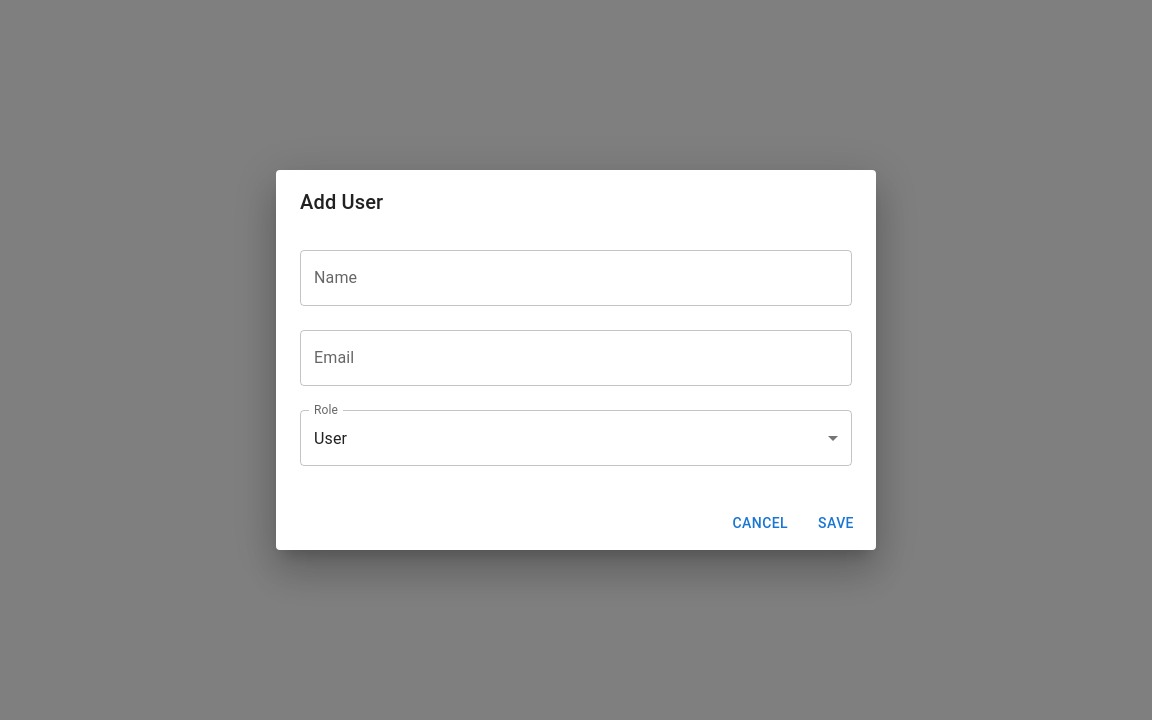
Test: AddEditUserModal › should show error for invalid email format
Type "invalid-email" into the field labelled "Email" at {"x": 576, "y": 358}, box [300,330,852,386]
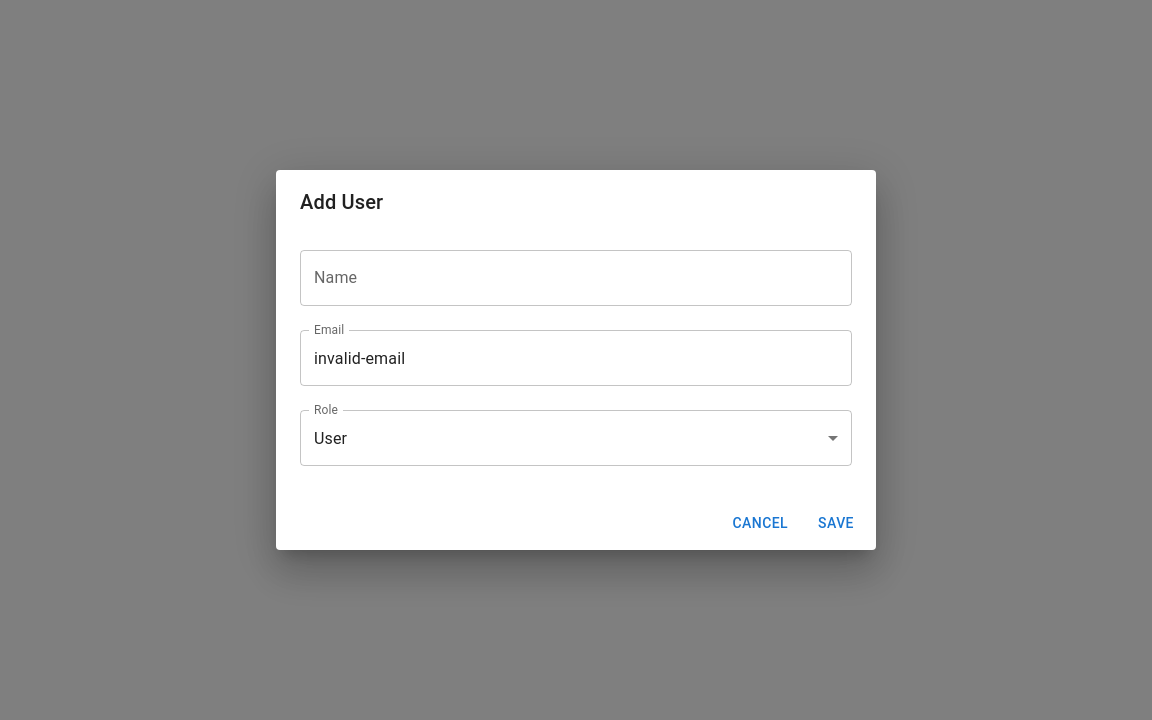
Click the button "Save" at {"x": 836, "y": 524}, box [804,505,868,542]
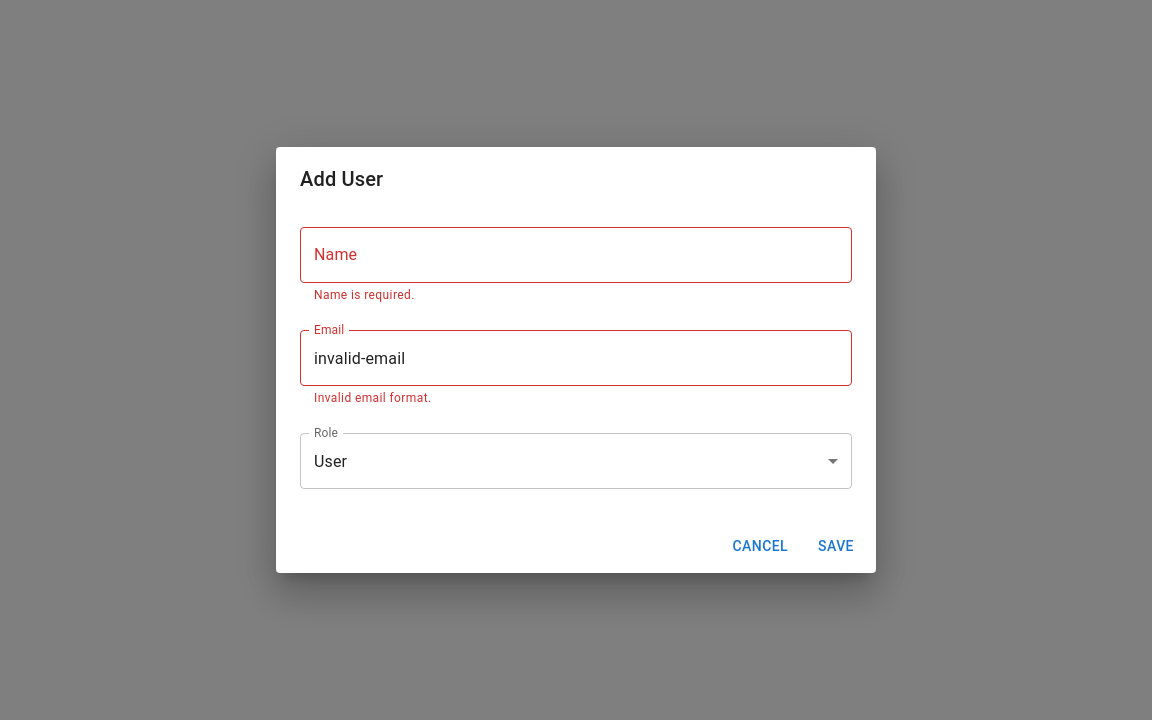
Check: the text "Invalid email format." is shown, box [314,391,432,405]
